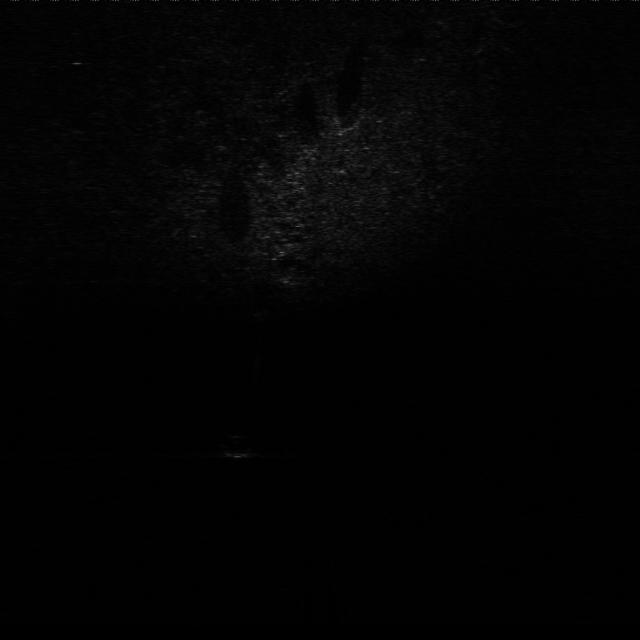ball: (220, 430, 260, 461)
